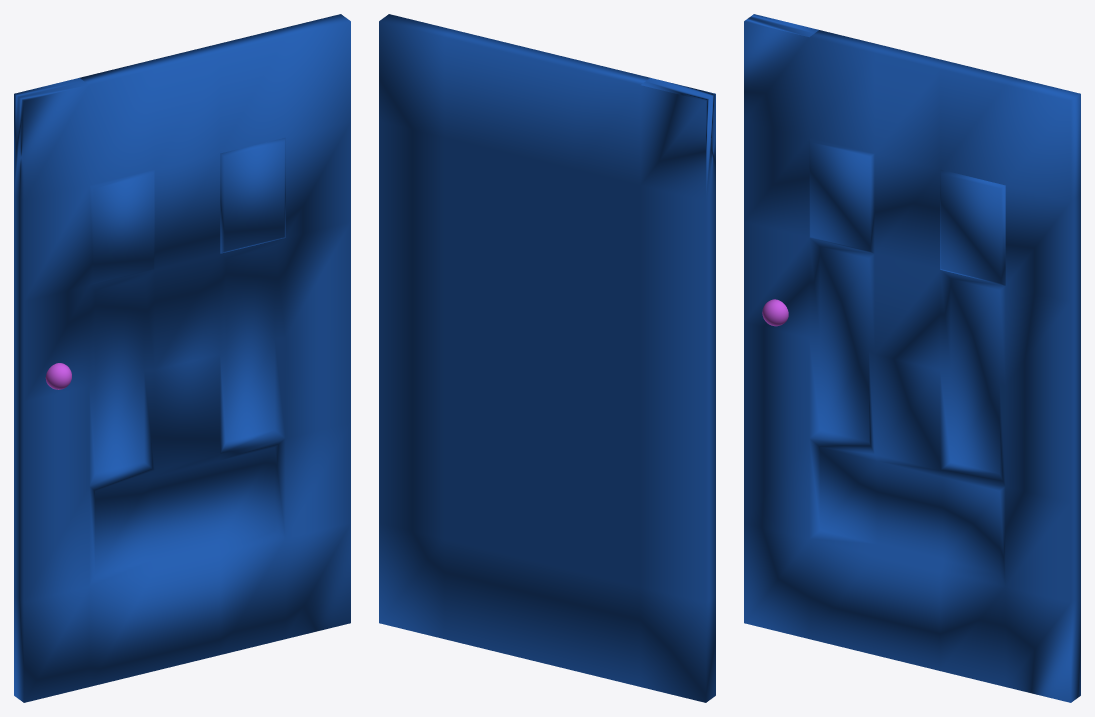
The model's file is door.obj.
The picture shows the model from 3 angles, left to right: view 1: azimuth 30°, elevation 25°; view 2: azimuth 150°, elevation 25°; view 3: azimuth 330°, elevation 25°; orthographic projection.
Visible parts, largest first — view 1: Box002, Sphere001; view 2: Box002; view 3: Box002, Sphere001.
Part boxes in pixels (x1,y1,x2,y2): Box002: [14, 14, 350, 702]; Sphere001: [45, 363, 71, 389]; Box002: [379, 14, 715, 702]; Box002: [744, 14, 1080, 702]; Sphere001: [762, 299, 788, 326].
Size of the model in its own units: 30.19 by 53.13 by 2.9.
